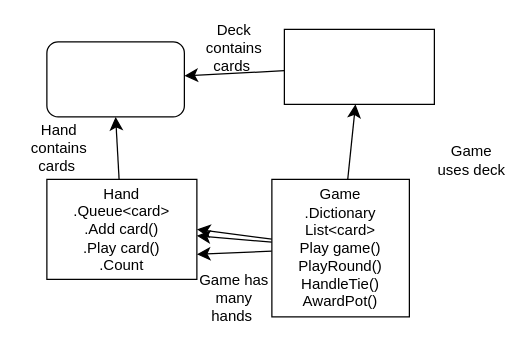
Image size: 530x364. Some labels were removed from this diagram. The centre of each missing label's shape, as x and y in pixels:
"Card .Suit .Rank .Compare to()" belongs at pixel 115 79.
"Deck .Stack<card> .Draw() .HasCards()" belongs at pixel 358 66.
